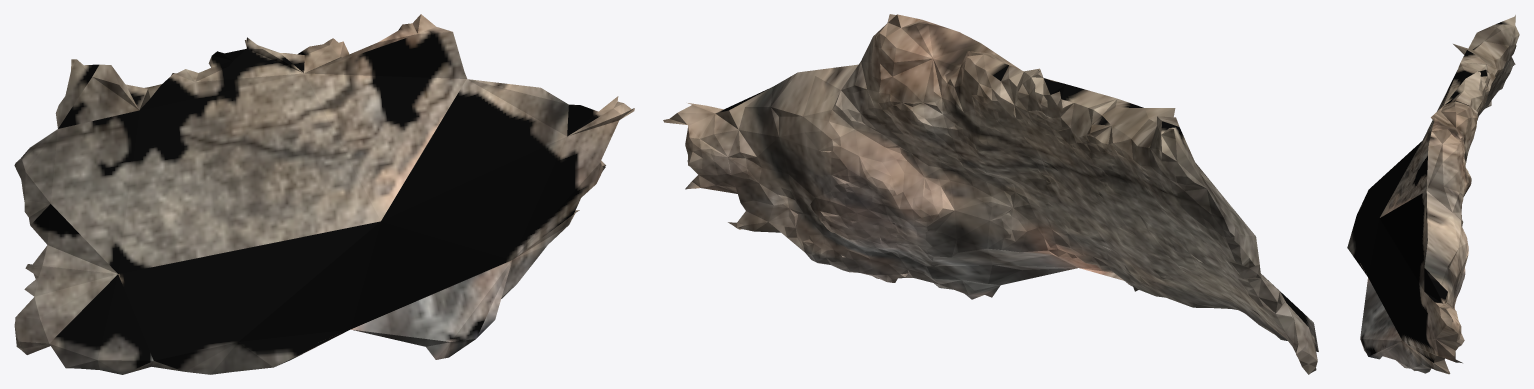
The picture shows the model from 3 angles, left to right: view 1: azimuth 30°, elevation 25°; view 2: azimuth 150°, elevation 25°; view 3: azimuth 270°, elevation 25°; orthographic projection. The views are drawn at different scales.
Visible parts, largest first — view 1: TexturedMesh; view 2: TexturedMesh; view 3: TexturedMesh.
Boxes of the visible parts, left/top/right/bottom form: TexturedMesh: left=14, top=14, right=634, bottom=374; TexturedMesh: left=663, top=14, right=1318, bottom=374; TexturedMesh: left=1347, top=15, right=1519, bottom=374.
Bounding box in the file's own units: 0.6417 × 0.2994 × 0.1978.
Materials: 1 (1 with a texture image).
